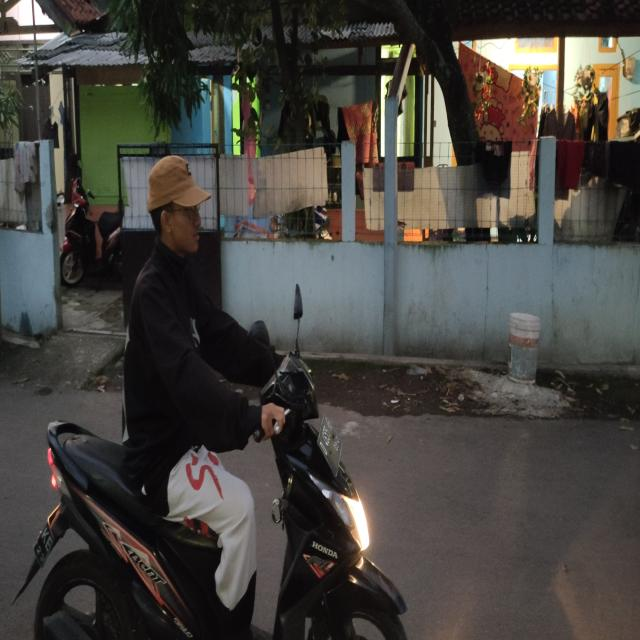no-helmet: (148, 152, 203, 251)
